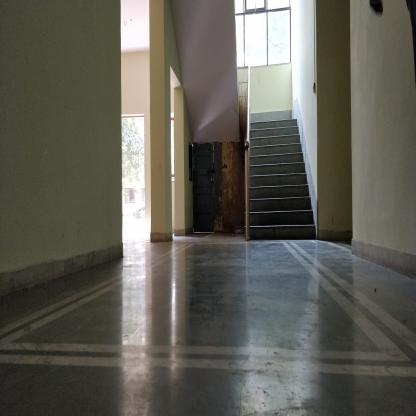stairs: (254, 117, 299, 244)
